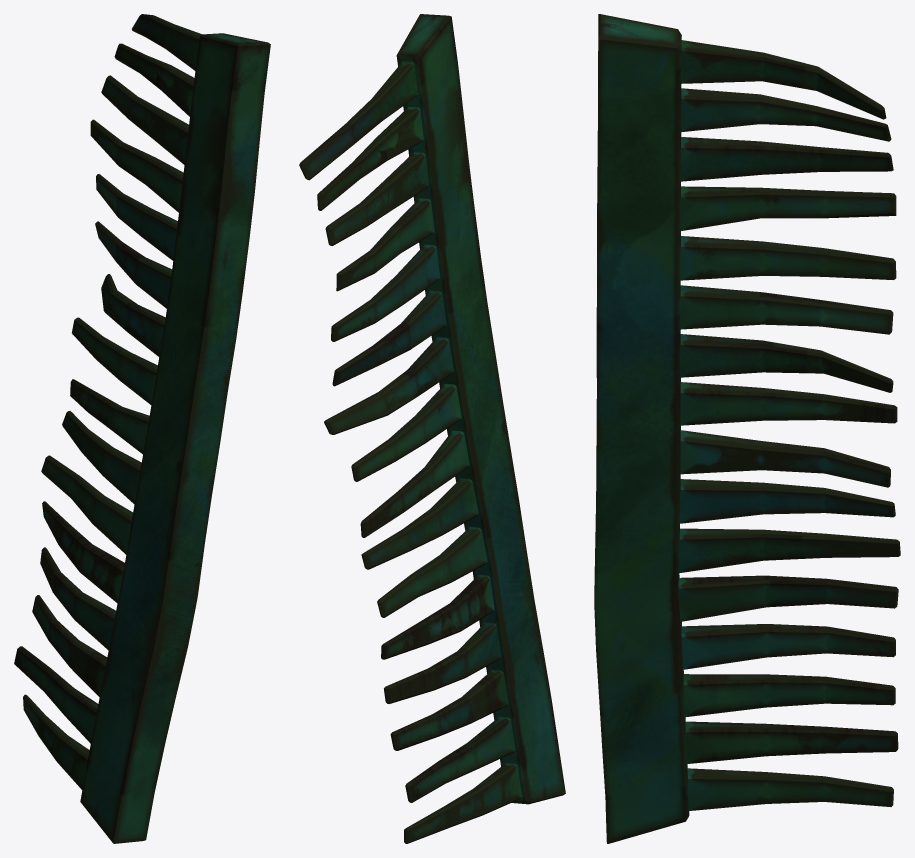
File: Hoe.fbx
The picture shows the model from 3 angles, left to right: view 1: azimuth 30°, elevation 25°; view 2: azimuth 150°, elevation 25°; view 3: azimuth 270°, elevation 25°; orthographic projection. The views are drawn at different scales.
Parts seen in each view (by area): view 1: Hoe; view 2: Hoe; view 3: Hoe.
Part boxes in pixels (x1=…): Hoe: x1=14, y1=14, x2=270, y2=843; Hoe: x1=299, y1=14, x2=565, y2=843; Hoe: x1=594, y1=14, x2=900, y2=843.
Bounding box in the file's own units: 16.11 × 77.58 × 24.47.
